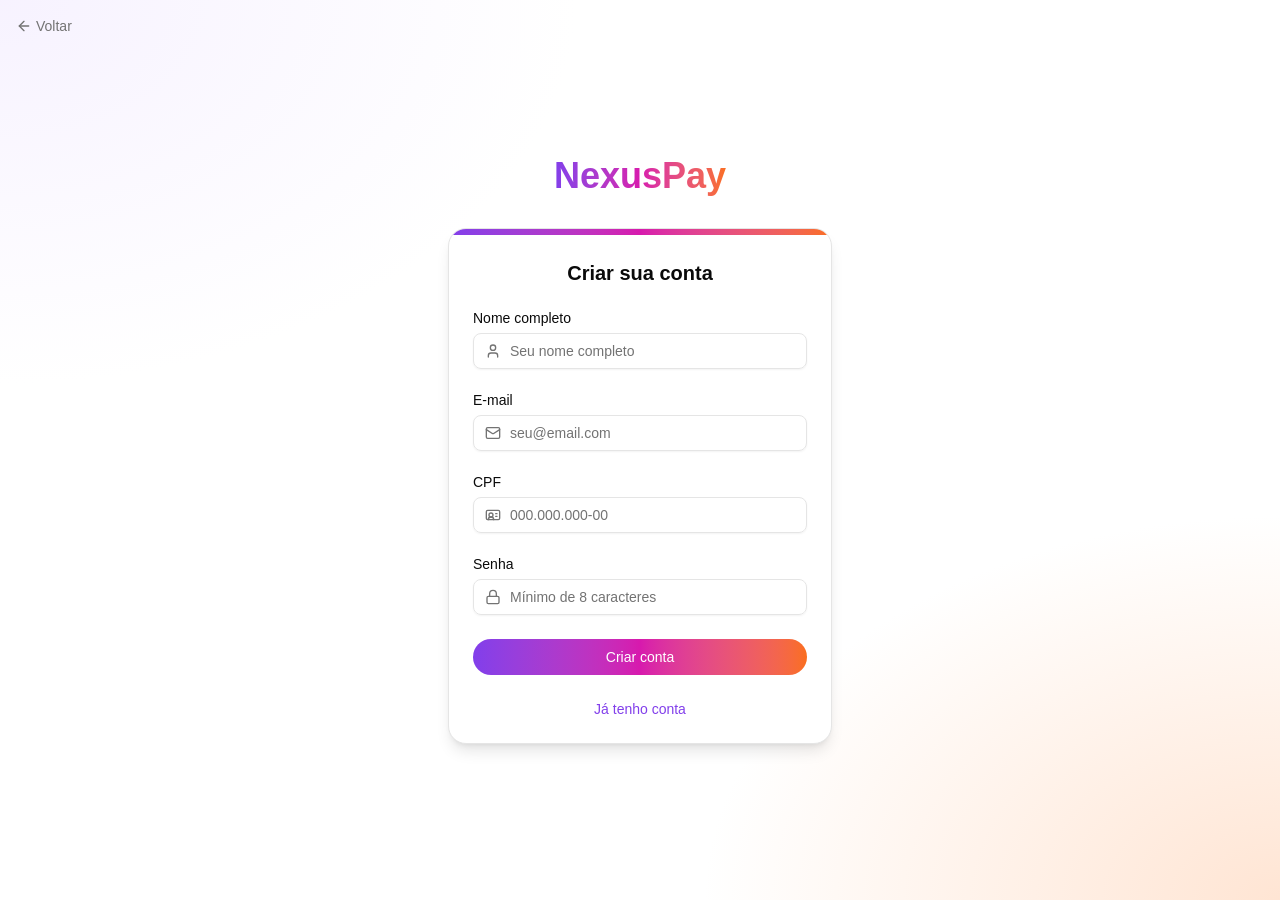
tela de registro › VALIDATION_ERROR com campo que o formulario nao tem cai no alerta generico
Type "Joao Silva" into the field labelled "Nome completo".
click(640, 351); type("Joao Silva")  # box x1=473 y1=333 x2=807 y2=369
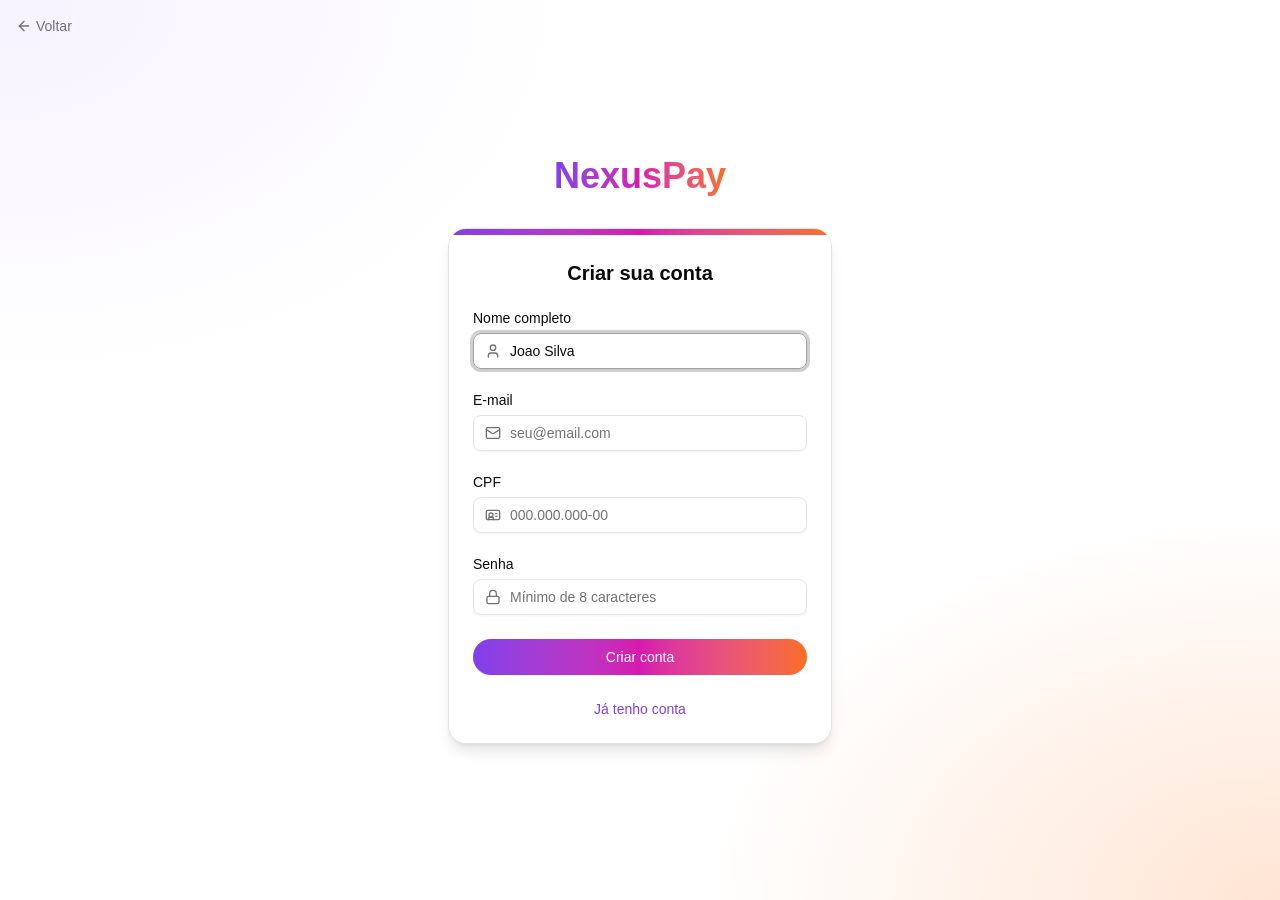
Type "joao@example.com" into the field labelled "E-mail".
click(640, 433); type("joao@example.com")  # box x1=473 y1=415 x2=807 y2=451
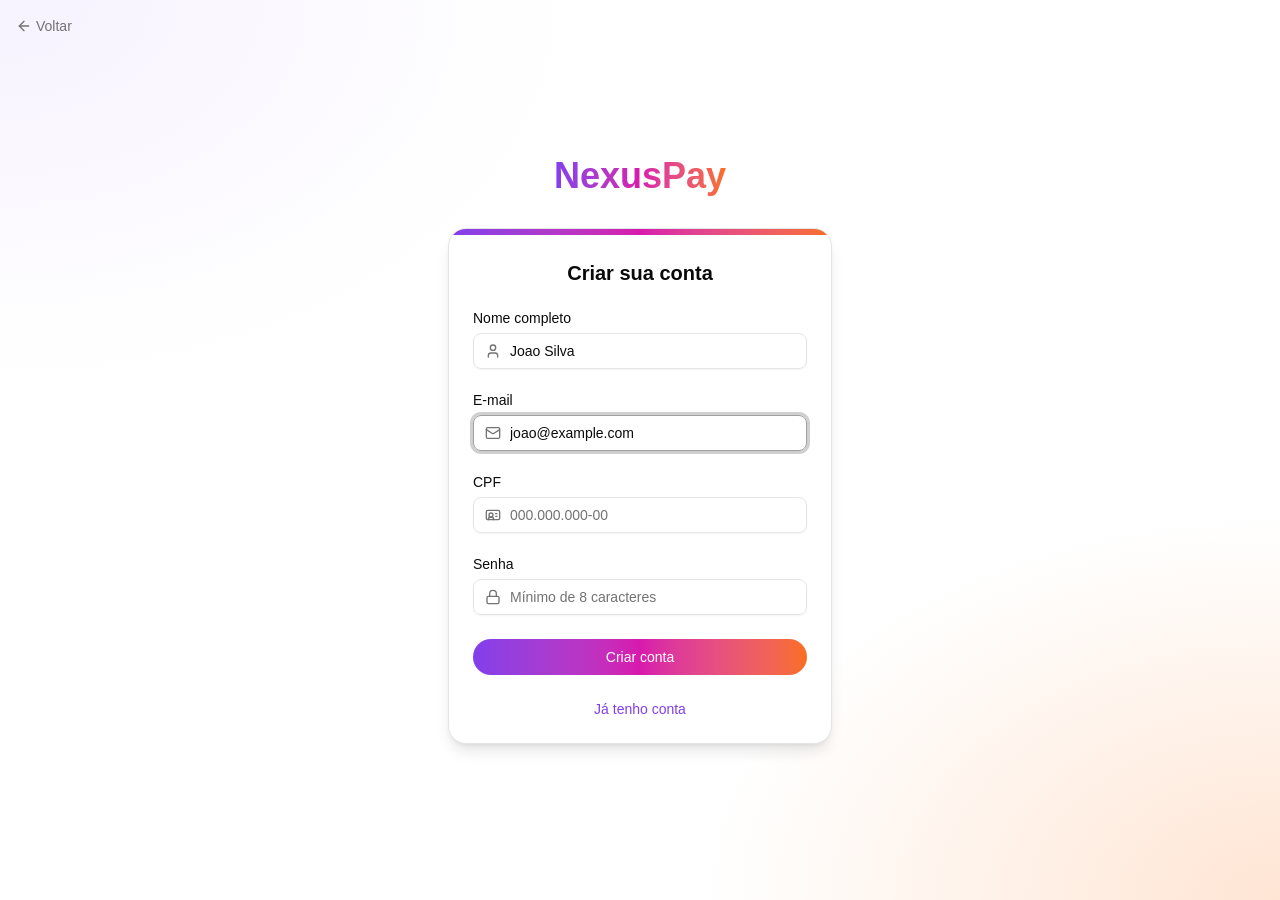
Type "39053344705" into the field labelled "CPF".
click(640, 515); type("39053344705")  # box x1=473 y1=497 x2=807 y2=533
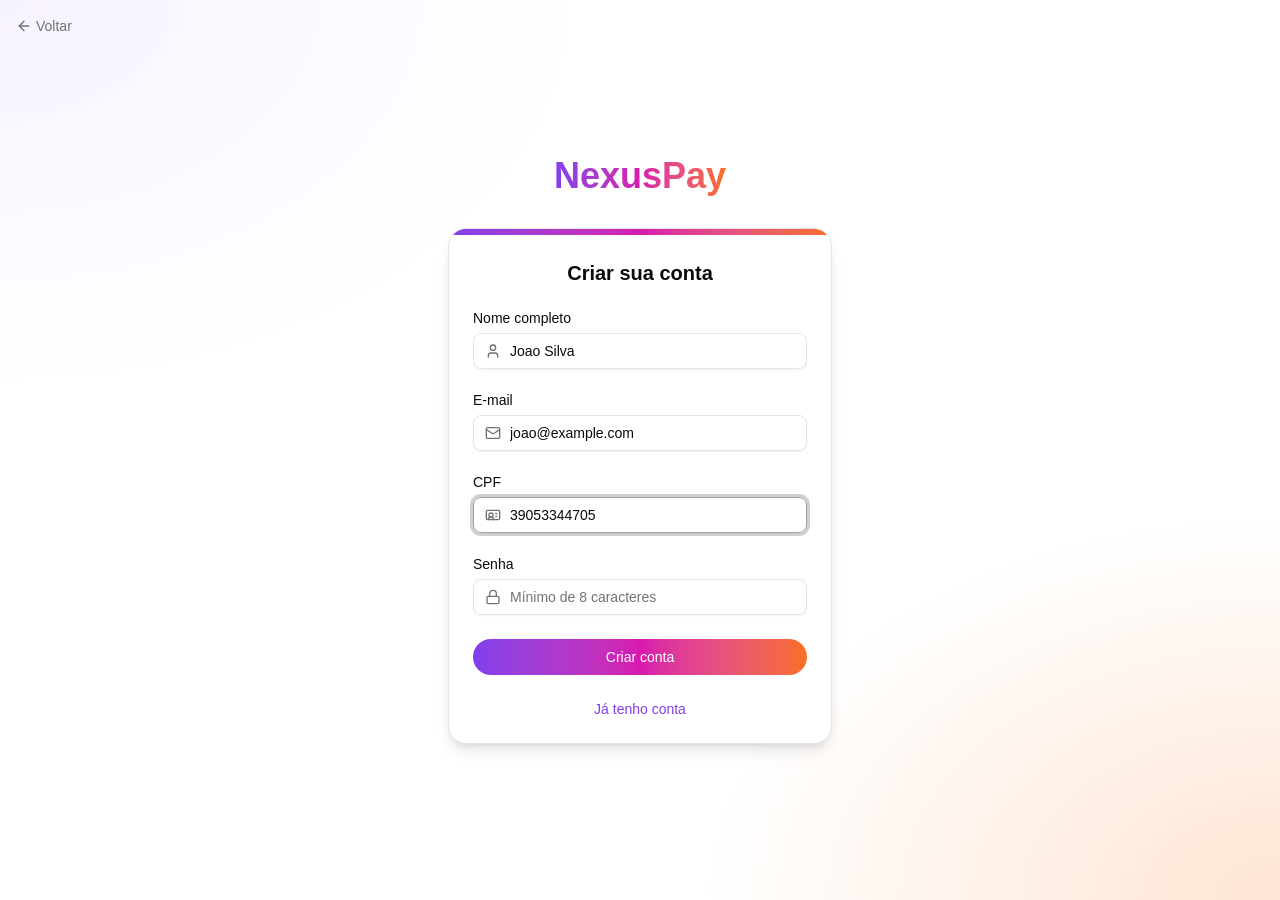
Type "senha123" into the password field labelled "Senha".
click(640, 597); type("senha123")  # box x1=473 y1=579 x2=807 y2=615
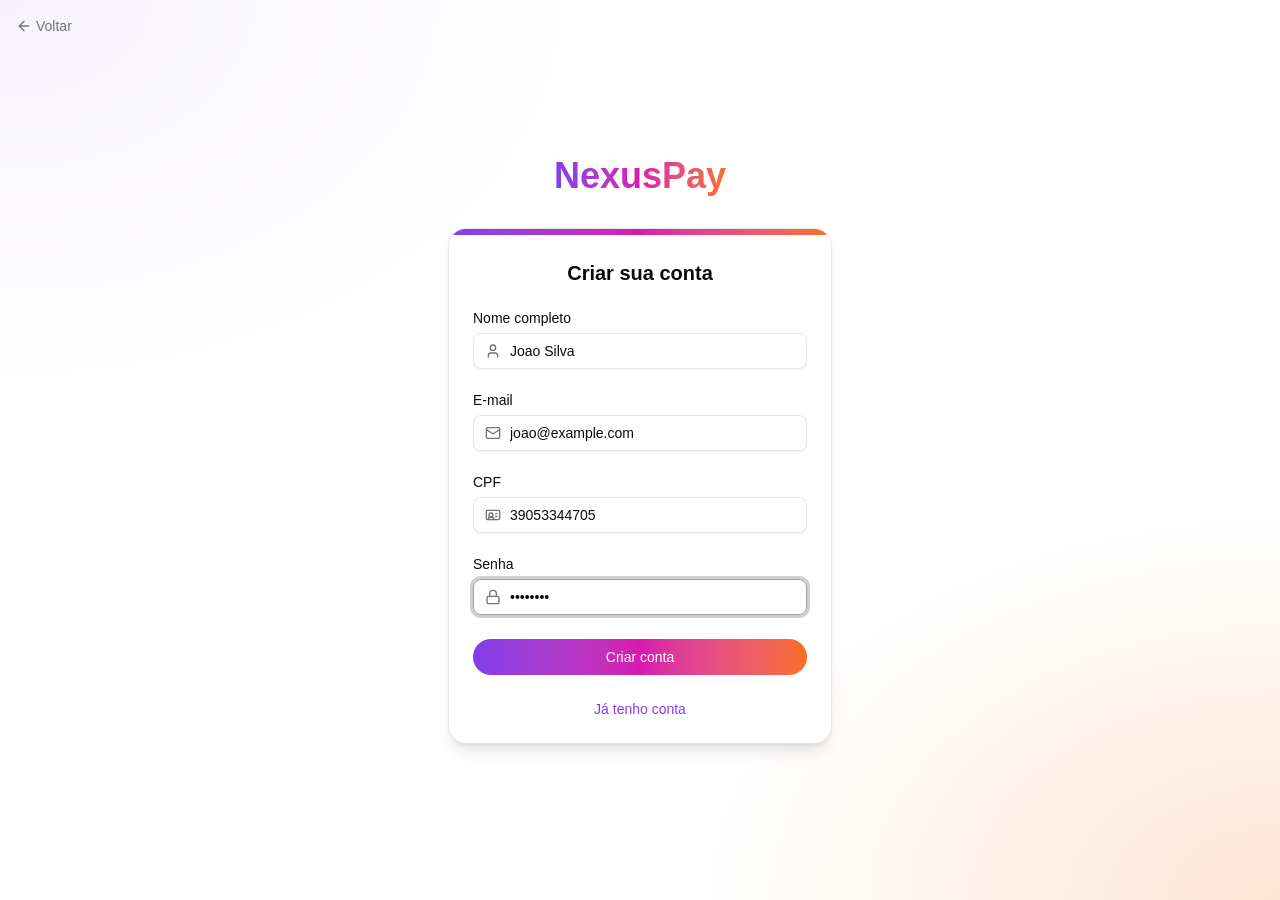
Click the button "Criar conta".
click(640, 657)  # box x1=473 y1=639 x2=807 y2=675
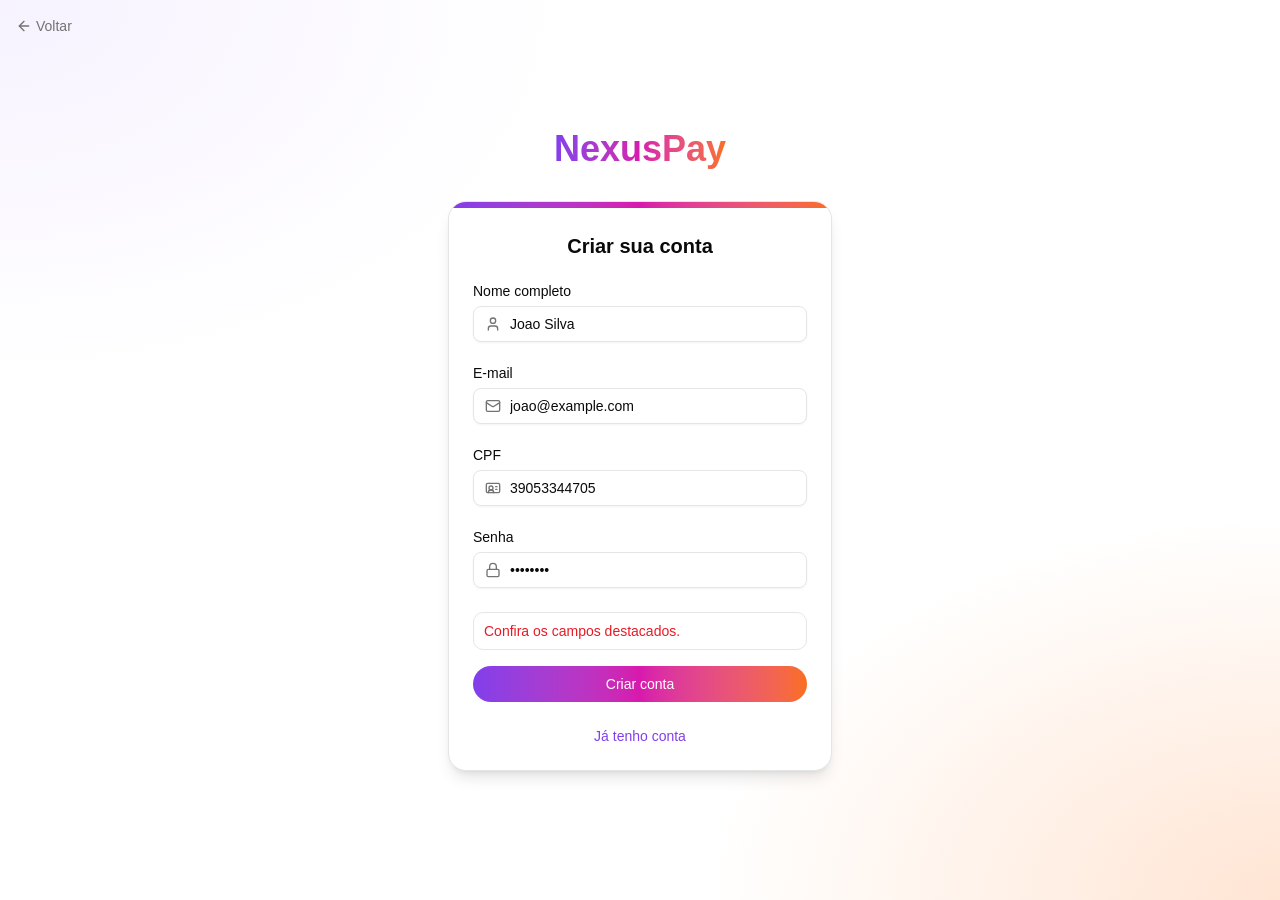
Check: the message reads "Confira os campos destacados.", box x1=484 y1=623 x2=680 y2=639
